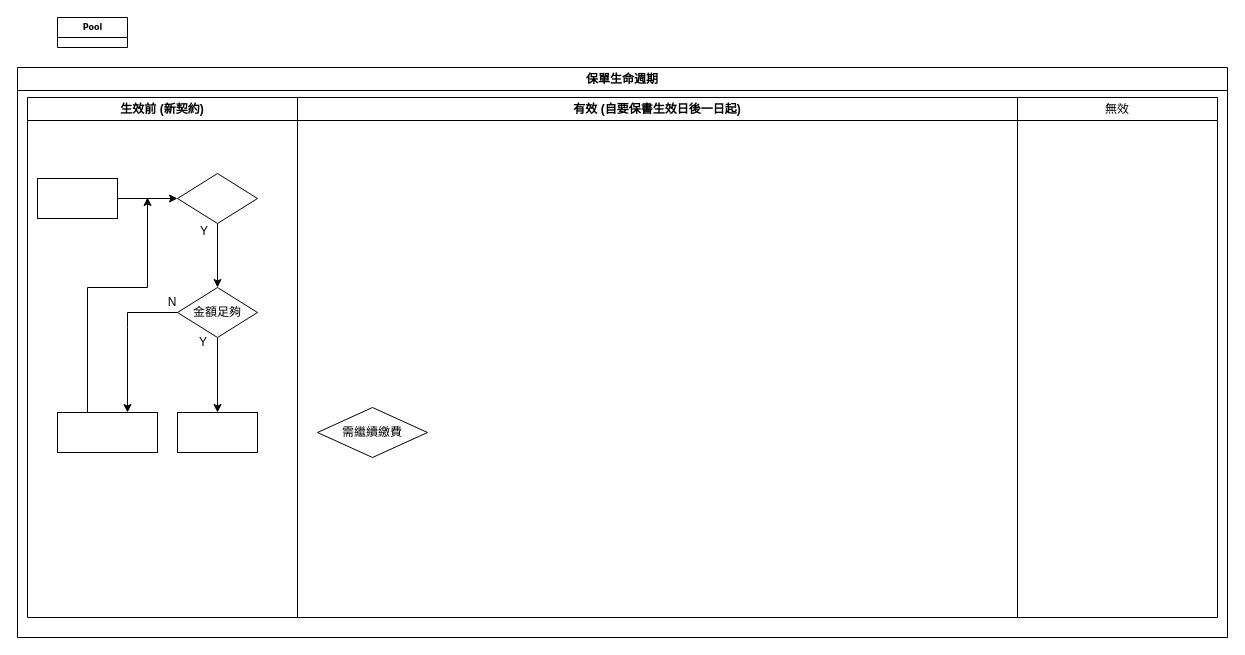
Image size: 1245x655. Some labels were removed from this diagram. Here are the shapes that lost their labels. From the top down, the centre of each, then its label:
At point 77,198: "06 險種登錄".
At point 217,198: "核保 (照會)".
At point 107,432: "09 已核保未繳費".
At point 217,432: "10 待批次發單".
